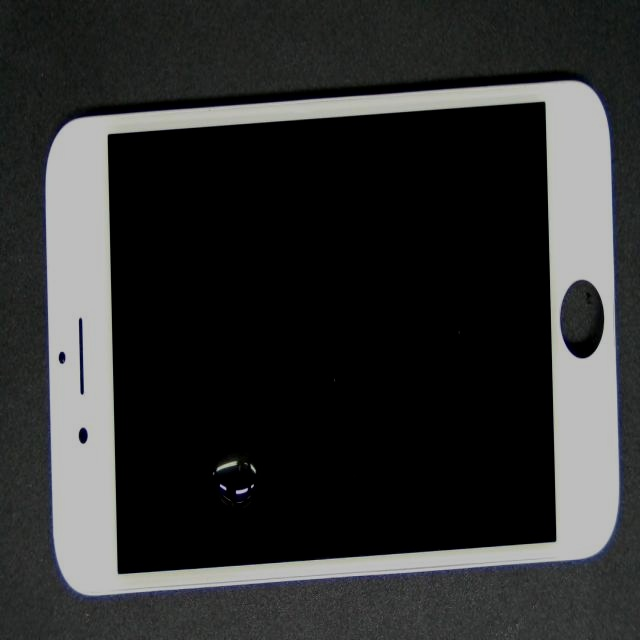oil: (137, 215, 365, 640)
